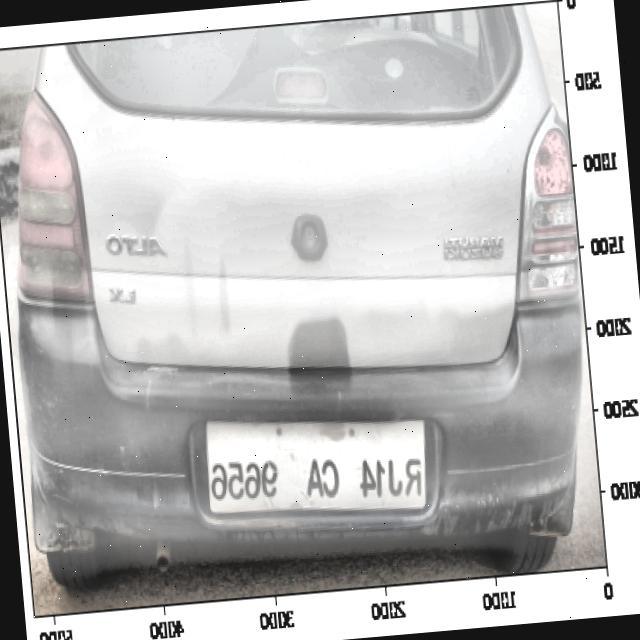license_plate: (202, 414, 432, 518)
